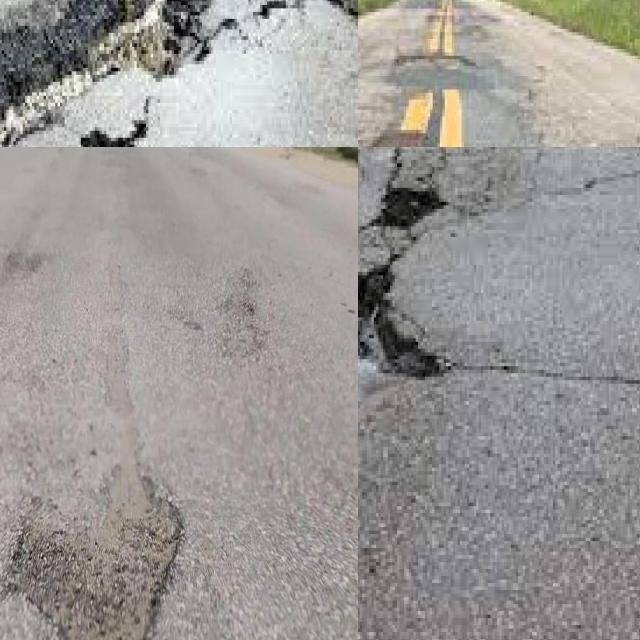Pothole: (4, 461, 188, 640), (220, 268, 262, 358), (391, 52, 474, 75), (369, 127, 435, 147)
